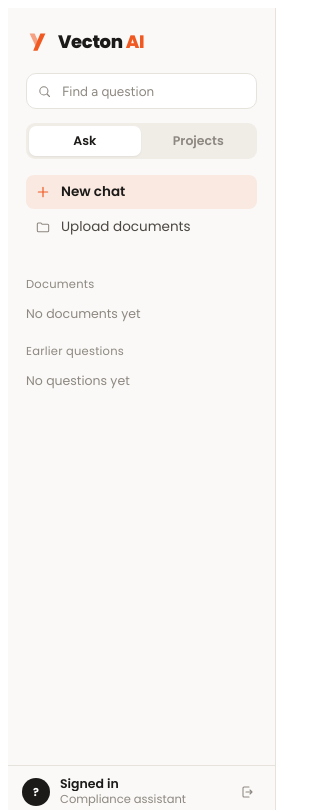
Test: Sidebar › switches to the Projects tab and shows "No projects yet" when there are none
Click the tab "Projects": {"x": 198, "y": 141} top-left (142, 126), bottom-right (254, 156)
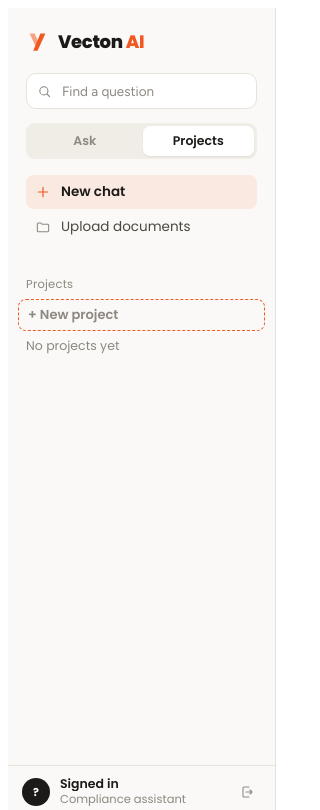
Expected: the text "No projects yet" is shown, top-left (26, 336), bottom-right (119, 354)
Expected: the text "Earlier questions" is gone
